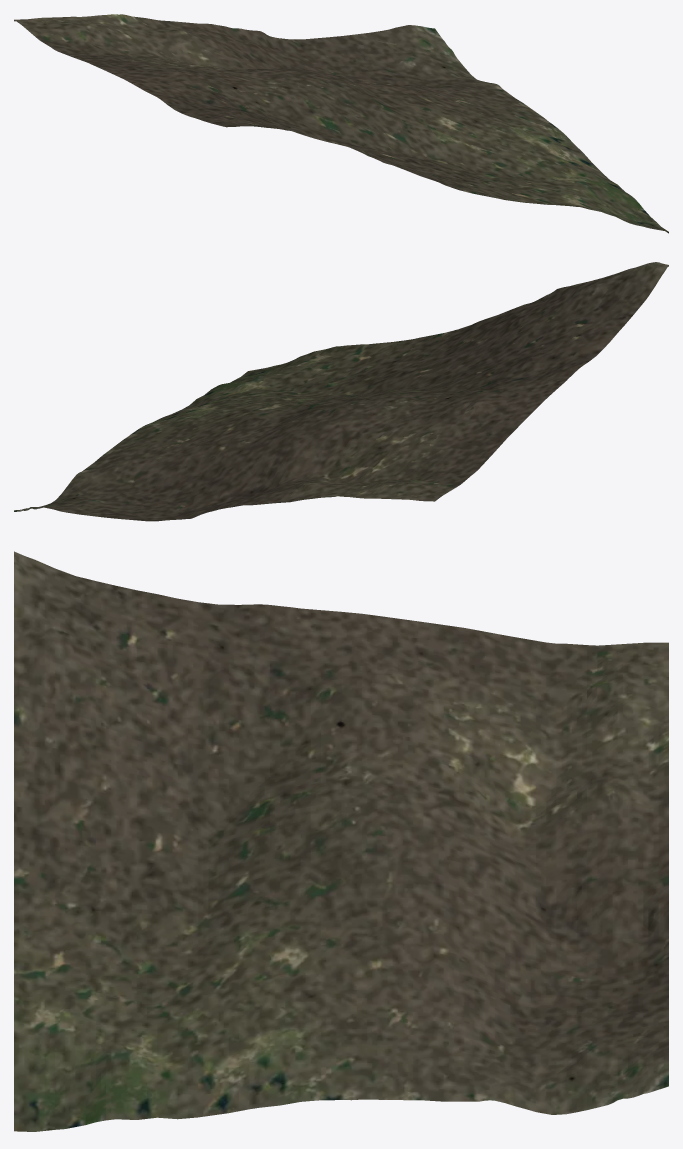
3 renders of one model, top to bottom at view 1: azimuth 30°, elevation 25°; view 2: azimuth 150°, elevation 25°; view 3: azimuth 270°, elevation 25°, orthographic. The views are drawn at different scales.
Size of the model in its own units: 250 by 120 by 241.
1 material, 1 textured.
